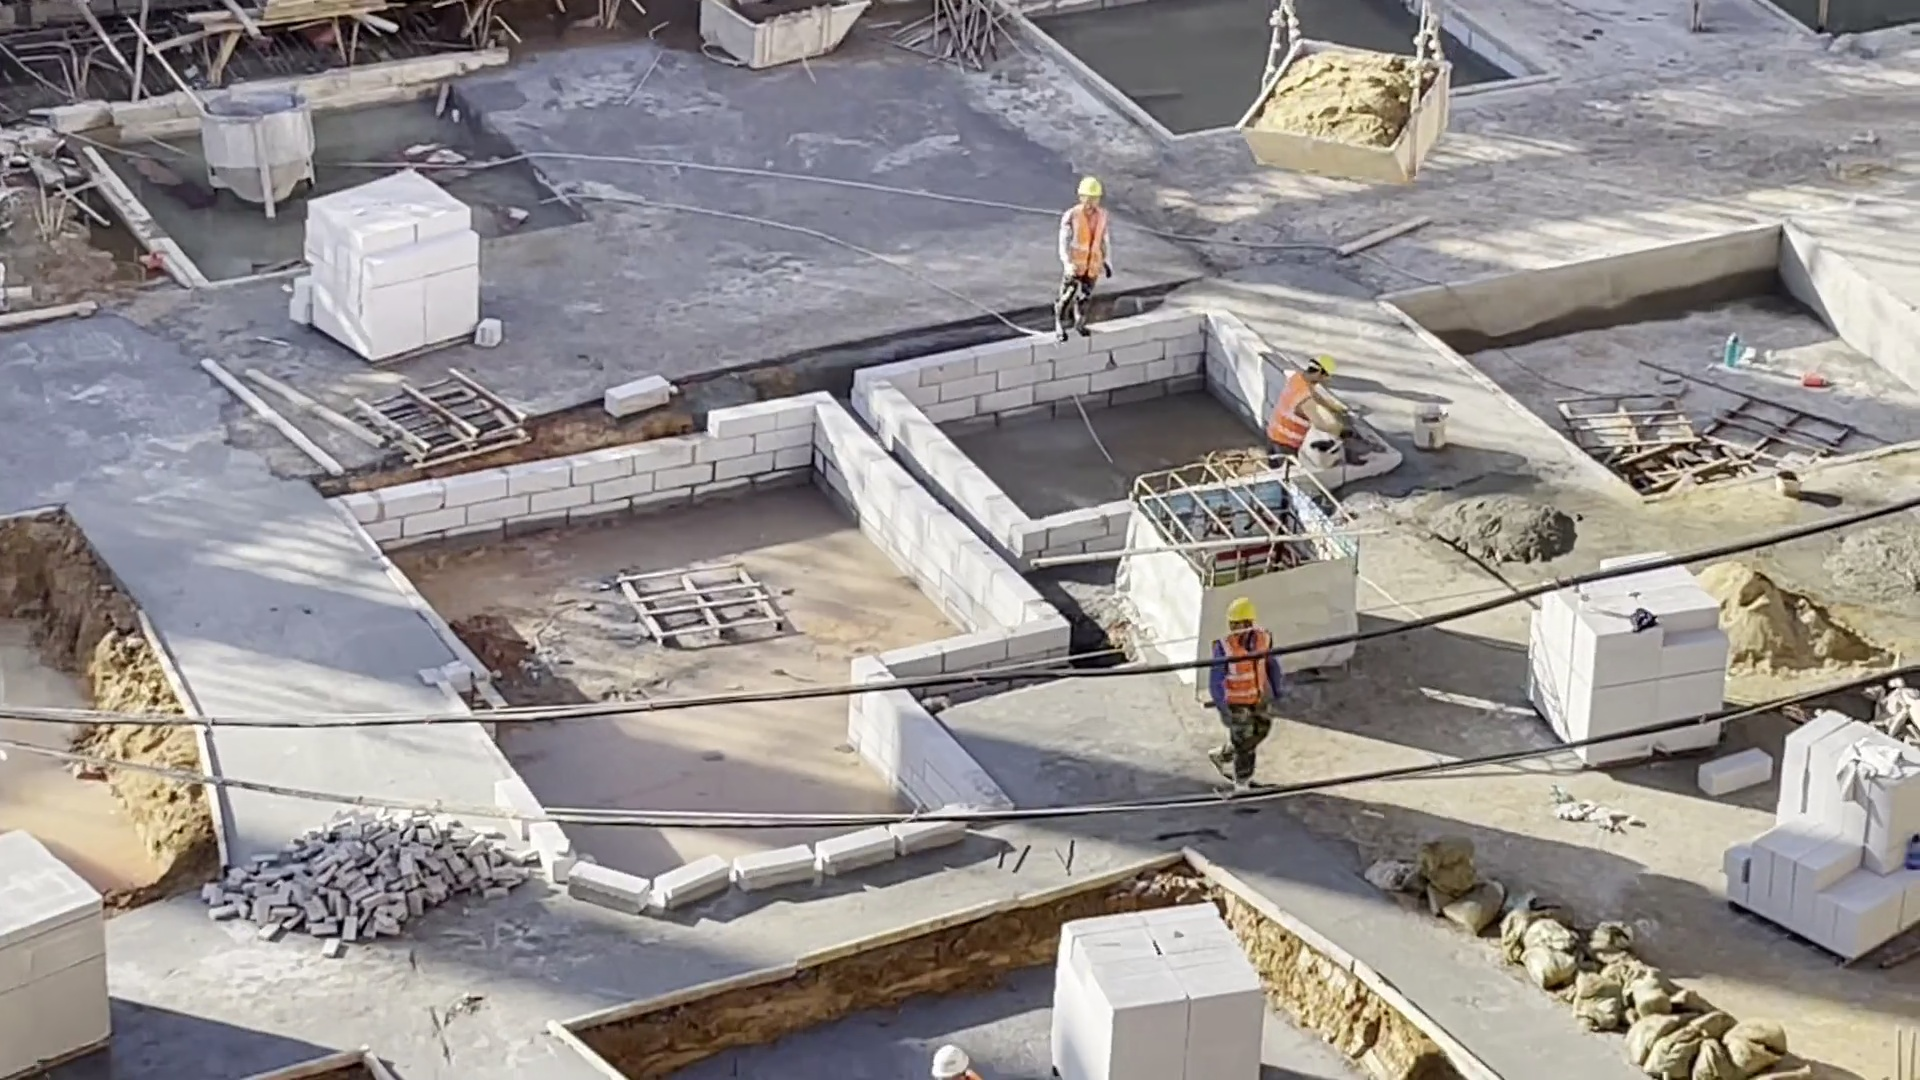brick: (1724, 698, 1920, 972), (282, 167, 506, 367), (1052, 897, 1264, 1080), (10, 826, 113, 1076), (1517, 594, 1735, 709)
helmet: (928, 1046, 970, 1080), (1225, 597, 1258, 628), (1310, 354, 1339, 381), (1074, 178, 1106, 200)
hopper: (1221, 37, 1466, 180), (197, 85, 319, 219), (691, 4, 888, 71)
person: (1203, 661, 1295, 789), (1054, 176, 1118, 345), (1262, 356, 1349, 464)
vest: (1058, 205, 1113, 279), (1263, 374, 1317, 449), (1224, 664, 1270, 702)
